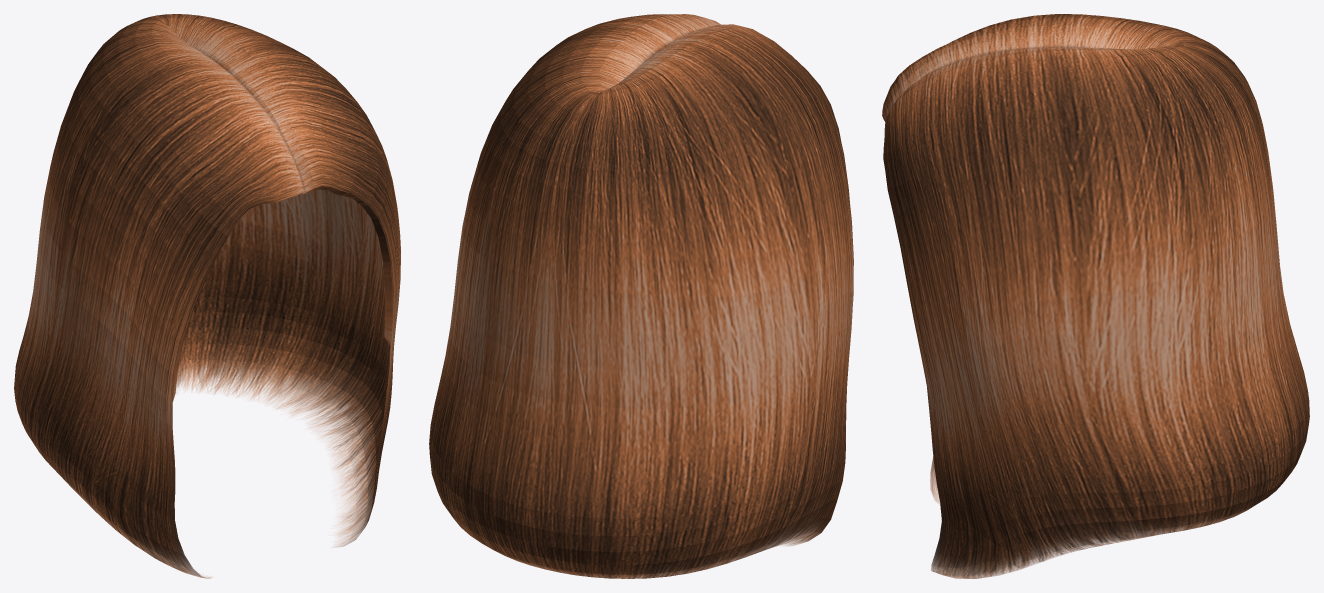
File: bob-cc0.glb
3 views of the same model, side by side, from view 1: azimuth 30°, elevation 25°; view 2: azimuth 150°, elevation 25°; view 3: azimuth 270°, elevation 25° (orthographic). The views are drawn at different scales.
Parts seen in each view (by area): view 1: Node; view 2: Node; view 3: Node.
Boxes of the visible parts, x1=… form: Node: x1=14, y1=14, x2=400, y2=578; Node: x1=429, y1=14, x2=853, y2=578; Node: x1=882, y1=14, x2=1309, y2=578.
Bounding box in the file's own units: 1.77 × 2.45 × 1.89.
1 material, 1 textured.
